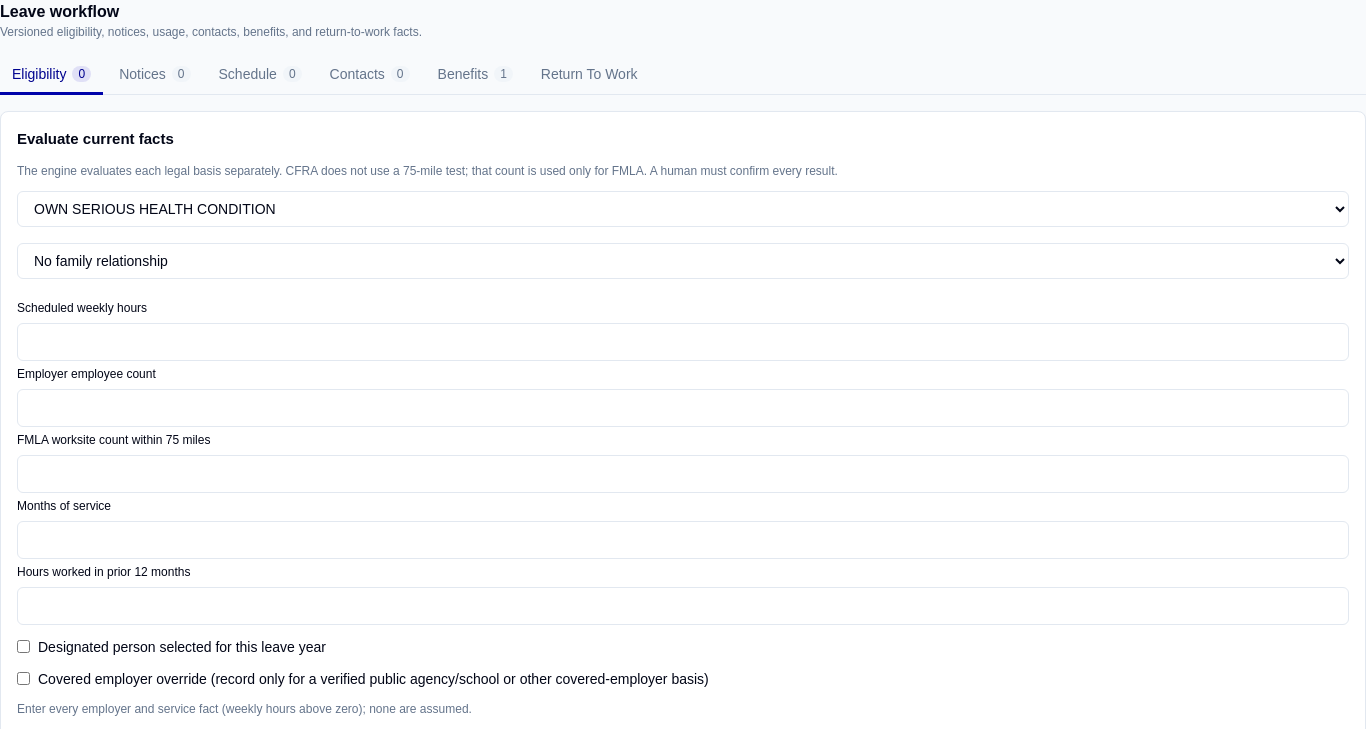
Test: Benefit transaction reversals › lists transactions and marks the reversed one and the reversal row
The width and height of the screenshot is (1366, 729).
Step 1. Click the tab "Benefits 1" → (475, 76), box [426, 56, 525, 95]
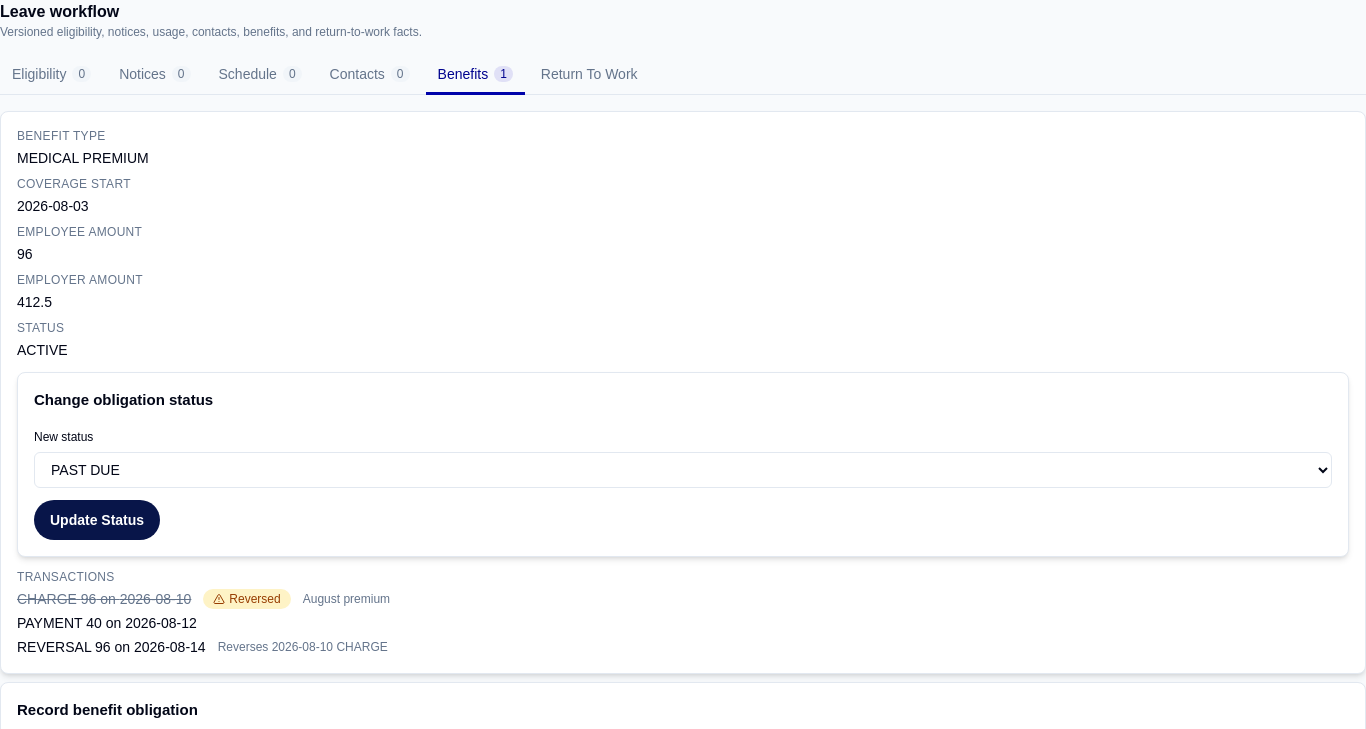
Check: the text "CHARGE 96 on 2026-08-10" is shown, box [17, 588, 191, 608]
Check: the text "August premium" is shown, box [303, 590, 390, 606]
Check: the text "Reversed" is shown once, box [203, 588, 291, 608]
